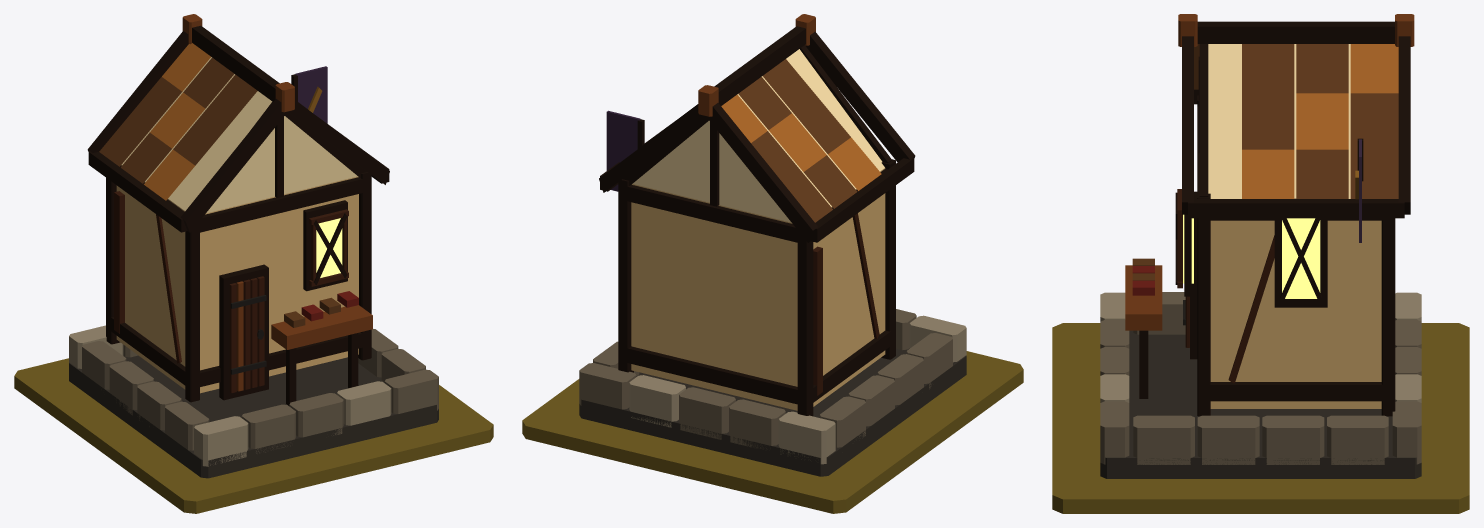
The model's file is scriptorium_t1.glb.
The picture shows the model from 3 angles, left to right: view 1: azimuth 30°, elevation 25°; view 2: azimuth 150°, elevation 25°; view 3: azimuth 270°, elevation 25°; orthographic projection. The views are drawn at different scales.
Parts seen in each view (by area): view 1: MMR | scriptorium | T01 Architecture.001, MMR | scriptorium | Tier 01 Ground.001, MMR | scriptorium | T01 Banner Flag 1.001; view 2: MMR | scriptorium | T01 Architecture.001, MMR | scriptorium | Tier 01 Ground.001, MMR | scriptorium | T01 Banner Flag 1.001; view 3: MMR | scriptorium | T01 Architecture.001, MMR | scriptorium | Tier 01 Ground.001.
Part boxes in pixels (x1,y1,x2,y2): MMR | scriptorium | T01 Architecture.001: (69,14,438,478); MMR | scriptorium | Tier 01 Ground.001: (14,358,493,513); MMR | scriptorium | T01 Banner Flag 1.001: (295,66,327,123); MMR | scriptorium | T01 Architecture.001: (579,14,966,476); MMR | scriptorium | Tier 01 Ground.001: (522,351,1023,513); MMR | scriptorium | T01 Banner Flag 1.001: (606,110,640,191); MMR | scriptorium | T01 Architecture.001: (1100,14,1421,478); MMR | scriptorium | Tier 01 Ground.001: (1052,323,1469,513).
Size of the model in its own units: 1.3 by 1.4 by 1.3.
2 materials, 1 textured.
